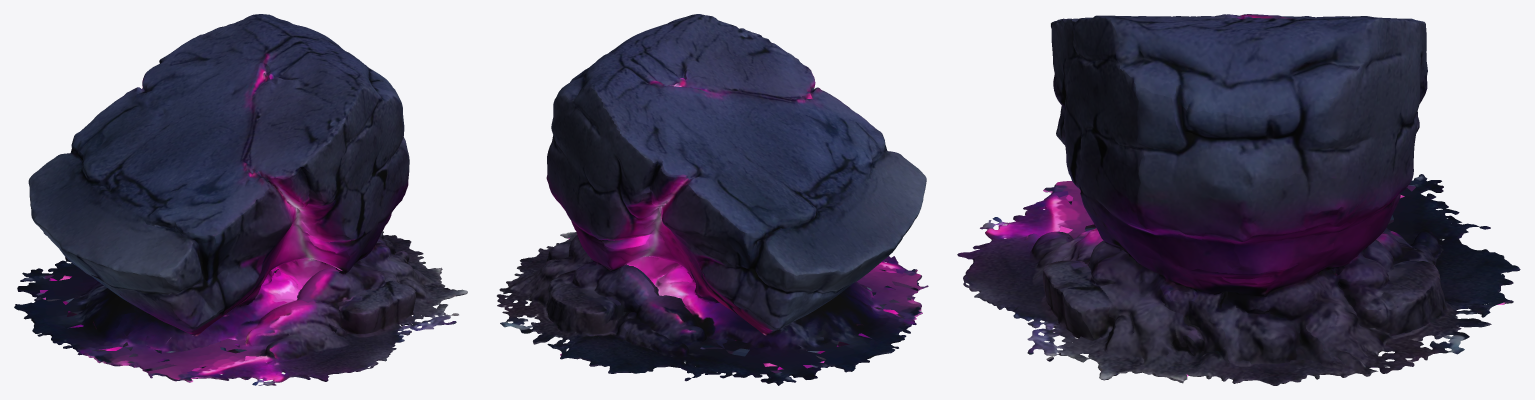
Rendered from shore-stone-1-generated-2026-05-17T19-52-50-116Z.high.glb.
3 renders of one model, left to right at view 1: azimuth 30°, elevation 25°; view 2: azimuth 150°, elevation 25°; view 3: azimuth 270°, elevation 25°, orthographic. The views are drawn at different scales.
Visible parts, largest first — view 1: temp_mesh.ply; view 2: temp_mesh.ply; view 3: temp_mesh.ply.
Part boxes in pixels (x1,y1,x2,y2): temp_mesh.ply: [14, 14, 467, 385]; temp_mesh.ply: [497, 14, 928, 385]; temp_mesh.ply: [957, 14, 1520, 385].
Size of the model in its own units: 1.98 by 1.15 by 1.97.
1 material, 1 textured.
